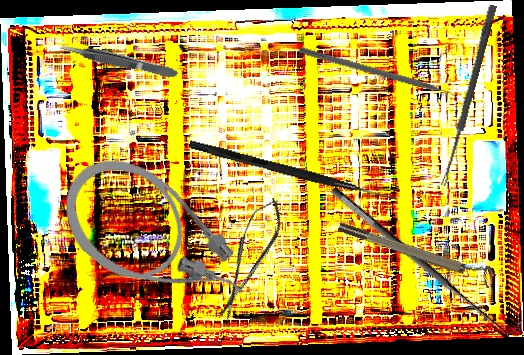Cannula: (42, 137, 266, 345)
Chopper: (296, 46, 461, 108)
Fixation Ring: (336, 213, 497, 289)
Hook Surgical: (328, 172, 524, 343), (187, 140, 400, 203)
Micro Scissor: (205, 193, 292, 325)
Surgical Spoon: (439, 4, 498, 187)
Tissue Forceps: (57, 38, 180, 83)
